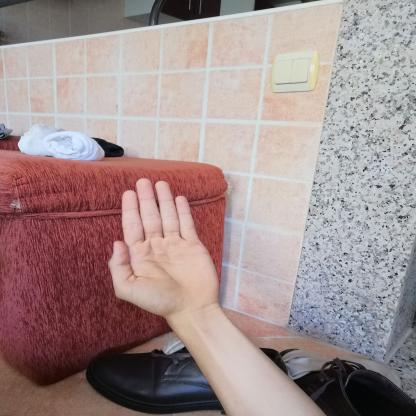SEEN: (96, 167, 229, 326)
